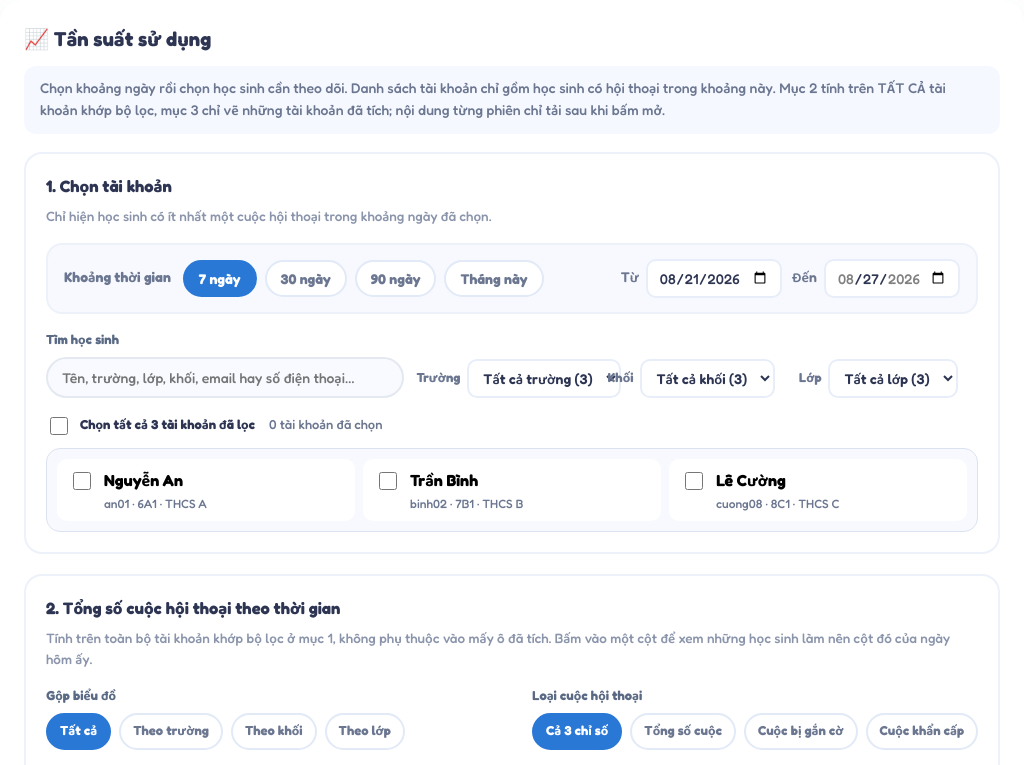
Test case: nội dung chỉ tải sau khi mở đúng phiên
Click the checkbox labelled "Nguyễn An an01 · 6A1 · THCS A". click: (82, 481)
box: [73, 472, 91, 490]
(page scrolled)
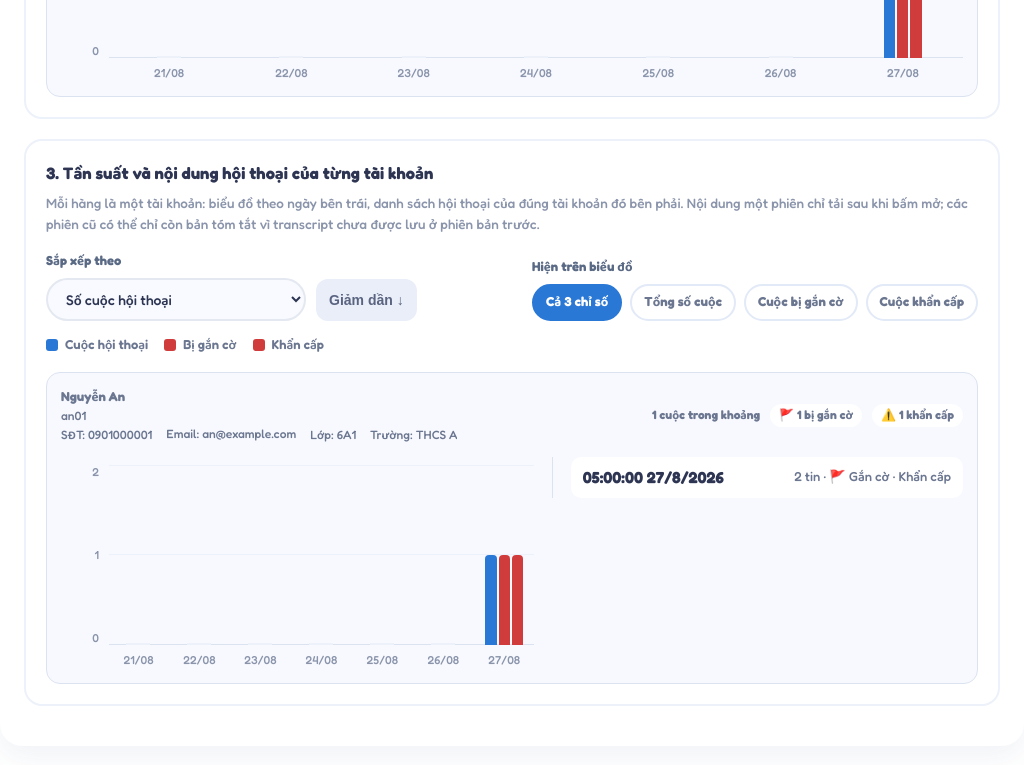
Check: the text "SĐT: 0901000001" is shown, box [61, 426, 152, 445]
Check: the text "Email: an@example.com" is shown, box [166, 426, 296, 445]
Check: the text "Lớp: 6A1" is shown, box [310, 426, 356, 445]
Click the button "05:00:00 27/8/2026 2 tin · 🚩 Gắn cờ · Khẩn cấp". click: (653, 477)
box: [583, 467, 951, 488]
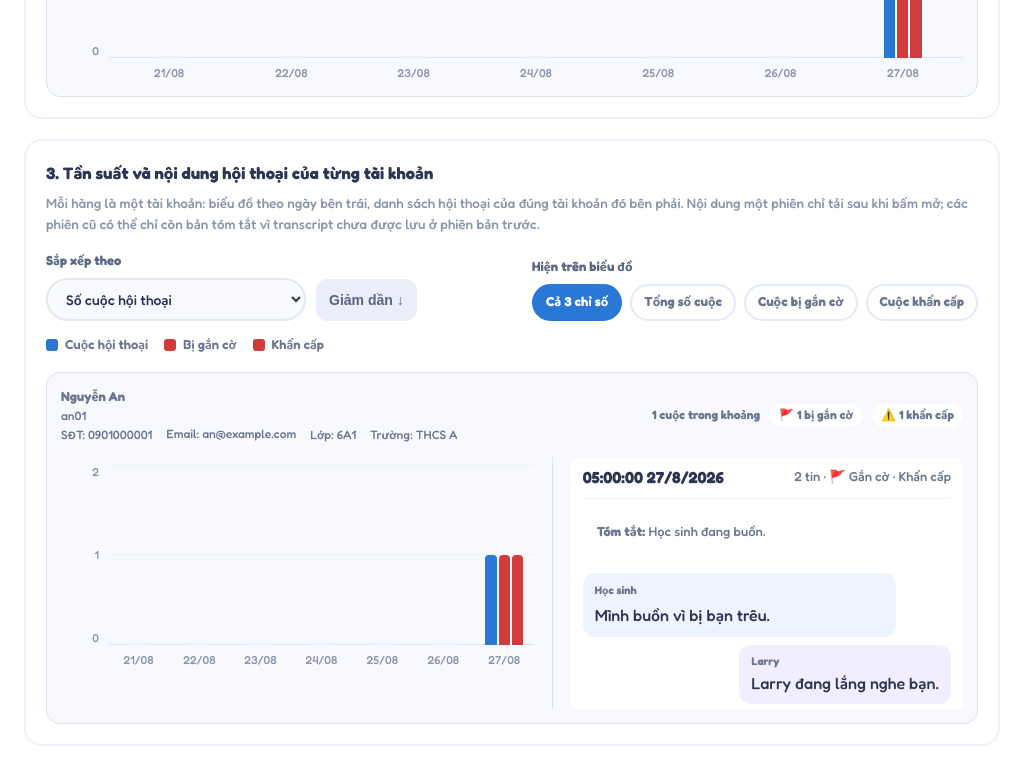
Check: the text "Mình buồn vì bị bạn trêu." is shown, box [595, 605, 770, 625]
Check: the text "Larry đang lắng nghe bạn." is shown, box [751, 670, 939, 695]
Check: the text "Tóm tắt:" reads "Tóm tắt: Học sinh đang buồn.", box [583, 509, 951, 553]
